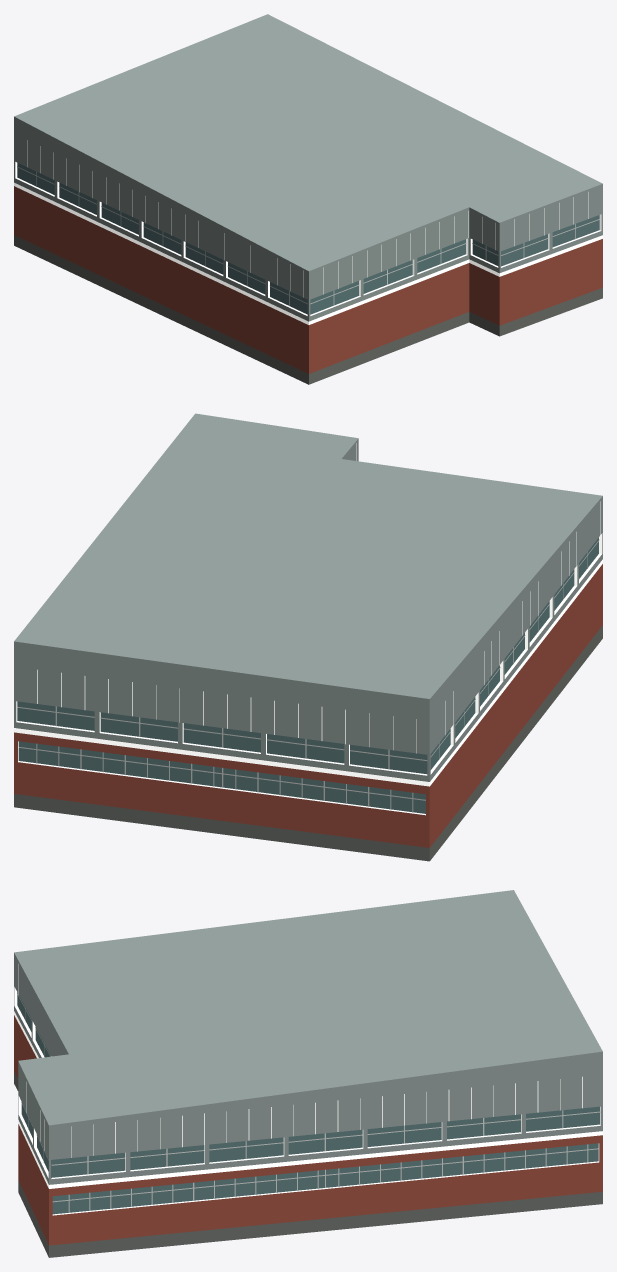
The picture shows the model from 3 angles, top to bottom: view 1: azimuth 30°, elevation 25°; view 2: azimuth 150°, elevation 25°; view 3: azimuth 270°, elevation 25°; orthographic projection. The views are drawn at different scales.
Visible parts, largest first — view 1: hall2__roof-metal, hall2__brick, hall2__glass, hall2__base-stone, hall2__trim-concrete, hall2__frame; view 2: hall2__roof-metal, hall2__brick, hall2__glass, hall2__base-stone, hall2__trim-concrete, hall2__frame; view 3: hall2__roof-metal, hall2__brick, hall2__glass, hall2__base-stone, hall2__trim-concrete, hall2__frame.
Boxes of the visible parts, box(x1,y1,x2,y2) form: hall2__roof-metal: box(14, 14, 602, 321); hall2__brick: box(14, 186, 602, 373); hall2__glass: box(17, 162, 599, 314); hall2__base-stone: box(14, 235, 602, 384); hall2__trim-concrete: box(14, 140, 602, 324); hall2__frame: box(17, 166, 599, 306); hall2__roof-metal: box(14, 413, 602, 781); hall2__brick: box(14, 564, 602, 847); hall2__glass: box(17, 537, 598, 813); hall2__base-stone: box(14, 625, 602, 861); hall2__trim-concrete: box(14, 443, 602, 815); hall2__frame: box(17, 539, 599, 812); hall2__roof-metal: box(14, 890, 602, 1184); hall2__brick: box(14, 1015, 602, 1245); hall2__glass: box(17, 992, 599, 1214); hall2__base-stone: box(14, 1072, 602, 1257); hall2__trim-concrete: box(14, 964, 602, 1215); hall2__frame: box(17, 993, 600, 1212).
Bounding box in the file's own units: 34.03 × 11.07 × 38.75.
